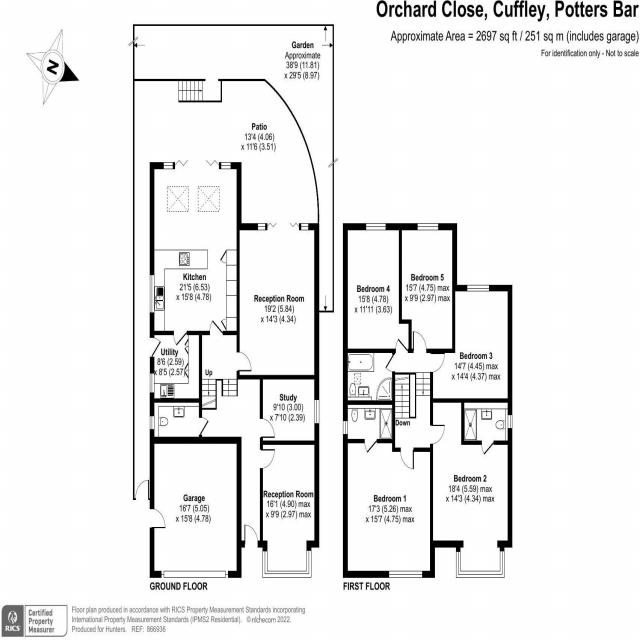DOOR: (259, 417, 275, 439), (412, 330, 427, 353), (430, 424, 446, 445), (244, 524, 258, 548), (236, 351, 252, 372), (260, 448, 275, 470), (400, 448, 414, 470), (430, 353, 445, 373), (150, 337, 162, 358), (209, 319, 223, 335), (173, 331, 187, 346), (481, 440, 494, 456), (364, 438, 377, 454), (199, 416, 209, 436), (395, 338, 408, 353), (385, 354, 395, 373)
FOLDING DOOR: (173, 157, 219, 169), (267, 220, 299, 230)
ROOM: (149, 159, 242, 347), (430, 398, 513, 579), (236, 221, 320, 380), (343, 439, 435, 579), (430, 284, 512, 403), (343, 223, 412, 353), (260, 441, 319, 579), (399, 223, 457, 353)
WINDOW: (262, 550, 312, 579), (455, 551, 505, 579), (388, 570, 423, 578), (149, 274, 155, 313), (467, 284, 490, 292), (417, 223, 439, 231), (314, 399, 320, 425), (366, 223, 386, 230), (149, 373, 155, 394), (149, 415, 155, 431), (507, 414, 513, 429), (343, 420, 348, 435), (257, 223, 266, 231), (163, 162, 173, 169), (221, 162, 231, 169), (301, 223, 309, 231)
